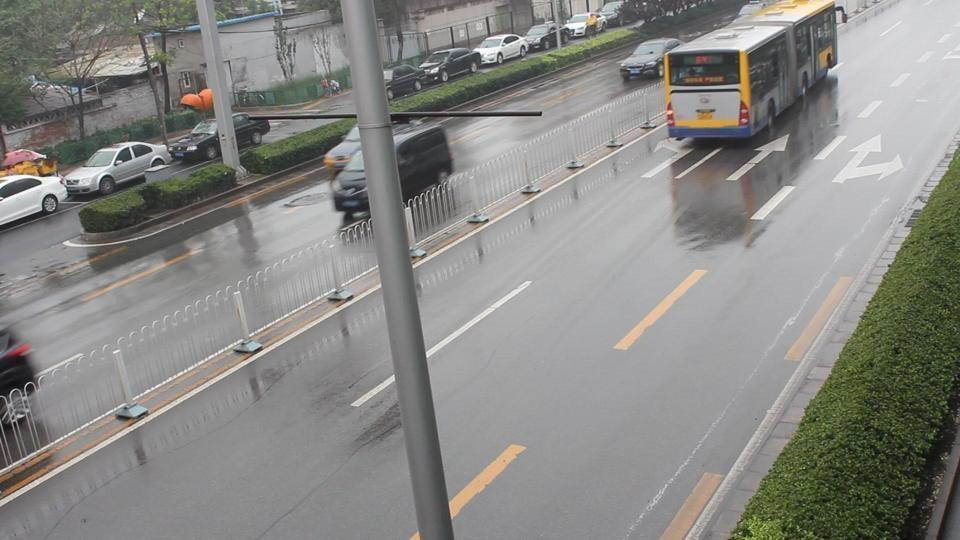car: (324, 118, 453, 211), (61, 141, 172, 199), (171, 113, 271, 160), (0, 173, 68, 229), (0, 328, 39, 424), (385, 52, 483, 90), (619, 38, 682, 81), (420, 48, 482, 82), (475, 32, 528, 66), (383, 64, 433, 99), (1, 150, 57, 176), (522, 21, 564, 52), (562, 12, 604, 39), (598, 1, 628, 29)
